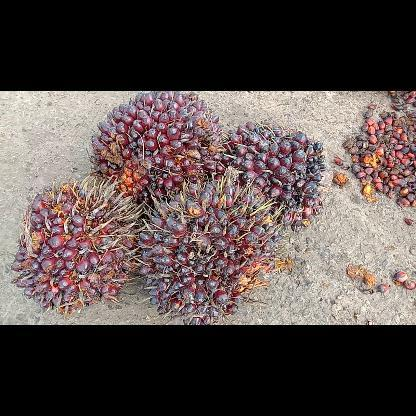Kurang masak: (138, 182, 289, 324), (10, 176, 146, 318), (218, 118, 326, 235)
TBS masak: (86, 91, 226, 205)
